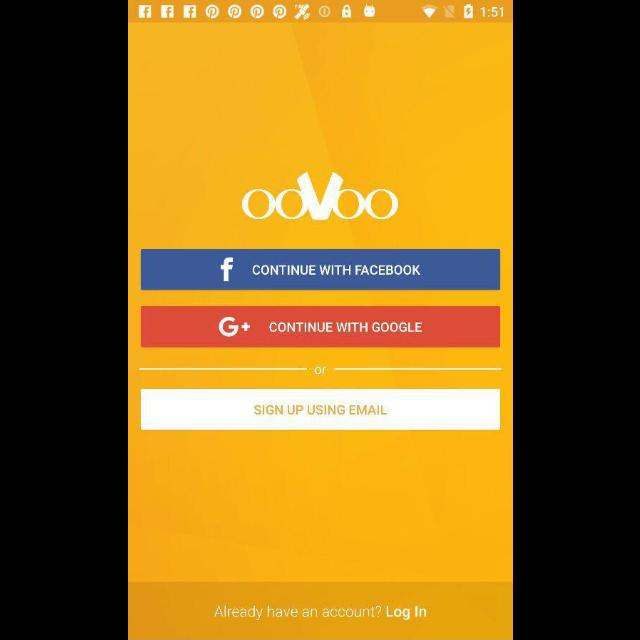image: (242, 172, 398, 222)
text: (314, 366, 326, 376)
textbutton: (128, 582, 512, 640), (141, 306, 499, 348), (140, 390, 500, 430), (141, 250, 499, 290)
uppertaskbar: (128, 1, 512, 23)
